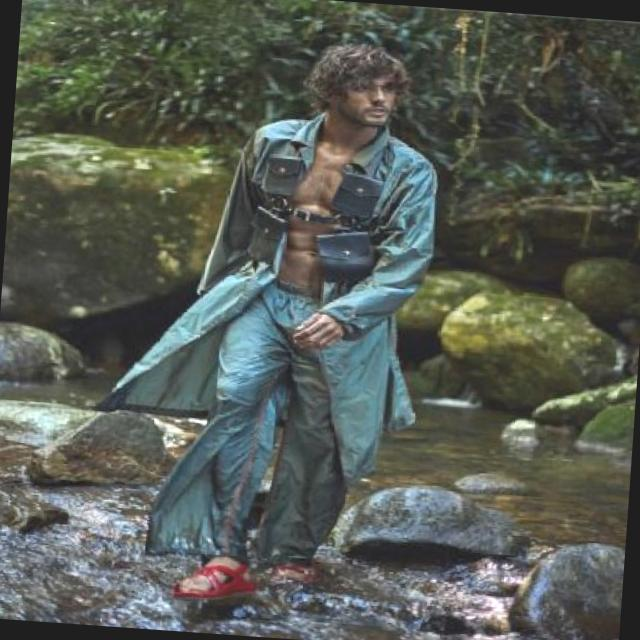Person: (120, 10, 448, 638)
